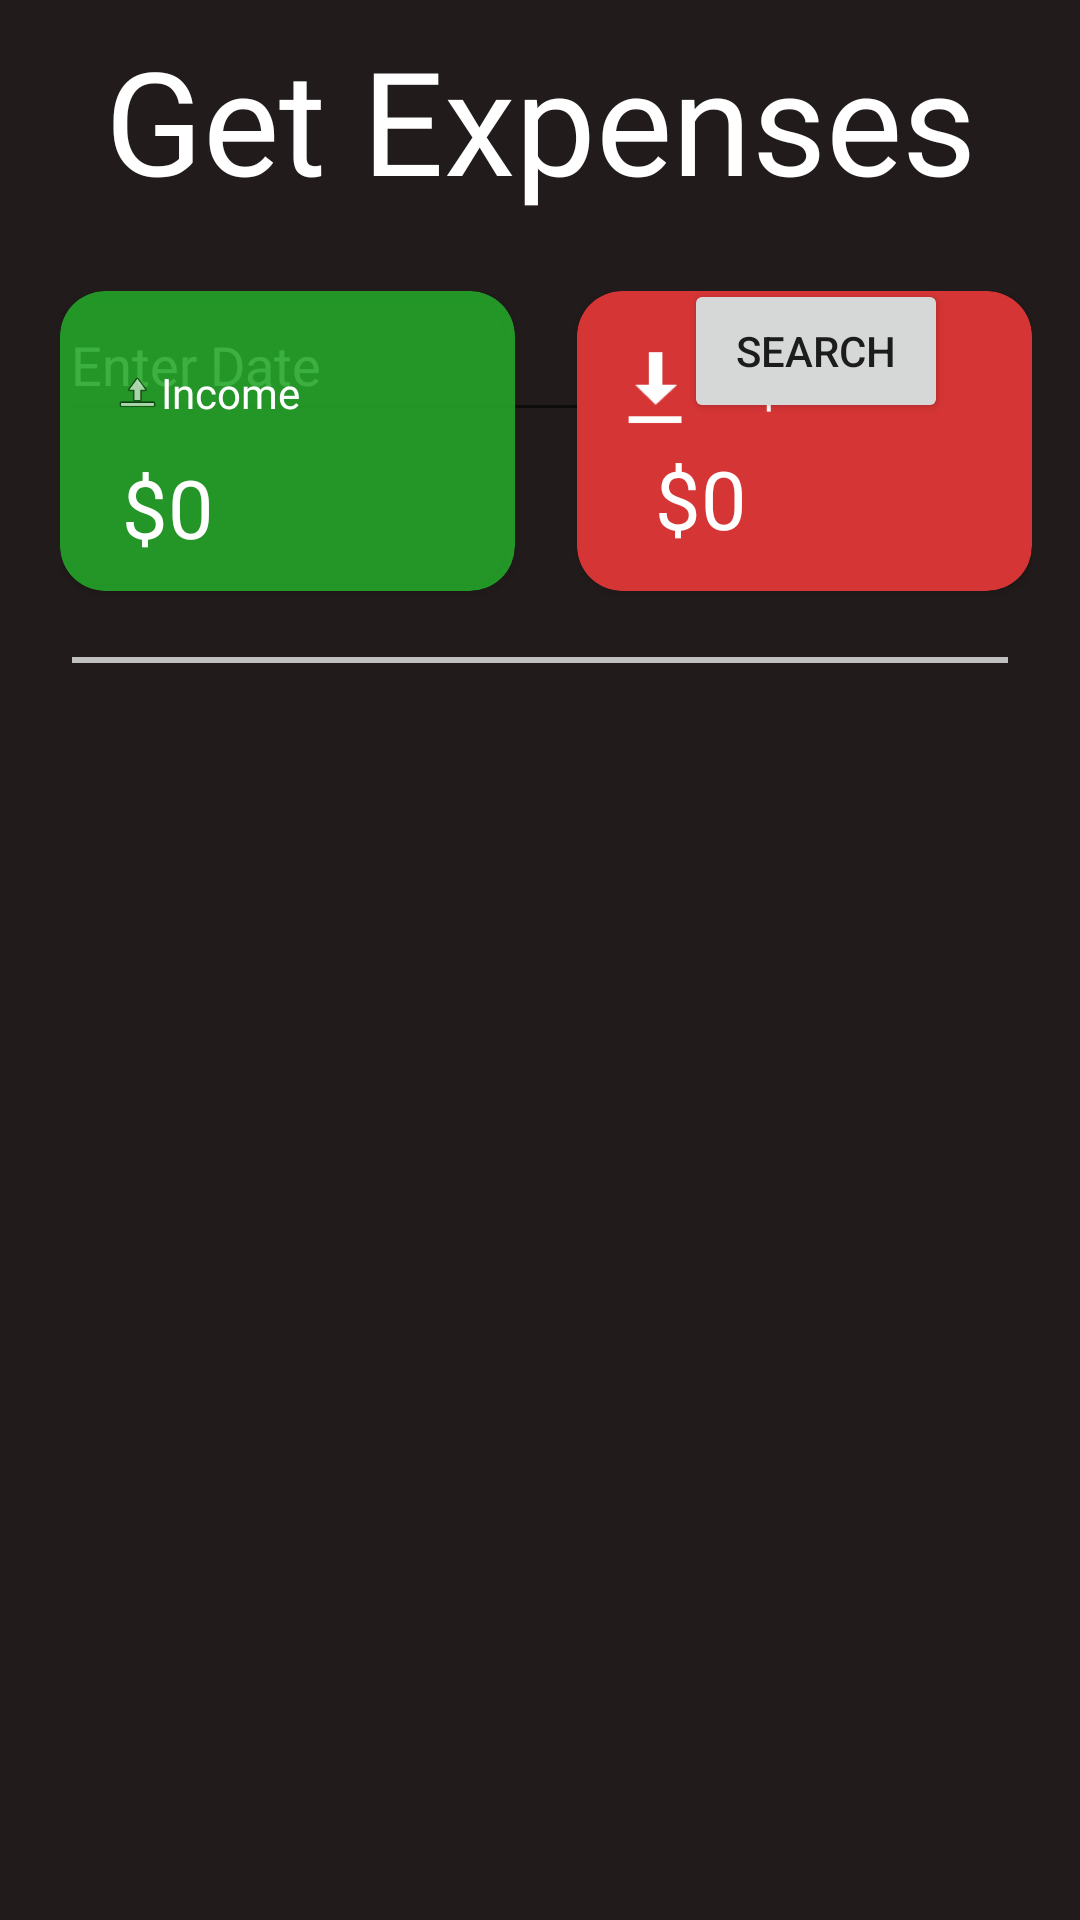

Screen size 1080px×1920px. Icon name, then its center in pixels as point (x, y):
download done: point (655, 387)
